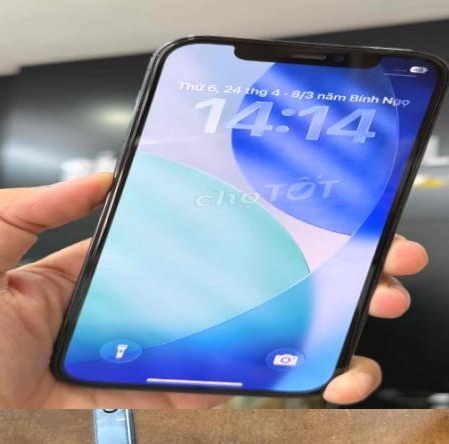scratch: (91, 409, 148, 441)
